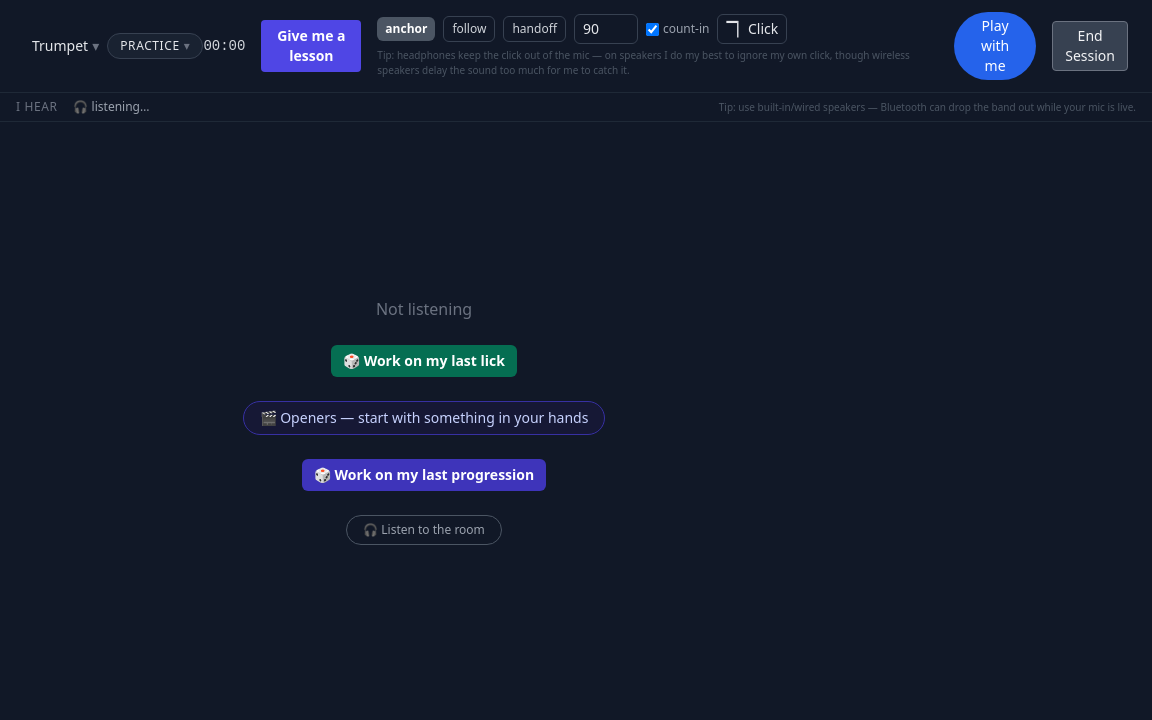
Test: PracticeSession › an Error rejection shows its message without the Error: prefix
The width and height of the screenshot is (1152, 720).
Click the button with test id "start-lesson" at (311, 46), box x1=261 y1=20 x2=361 y2=72
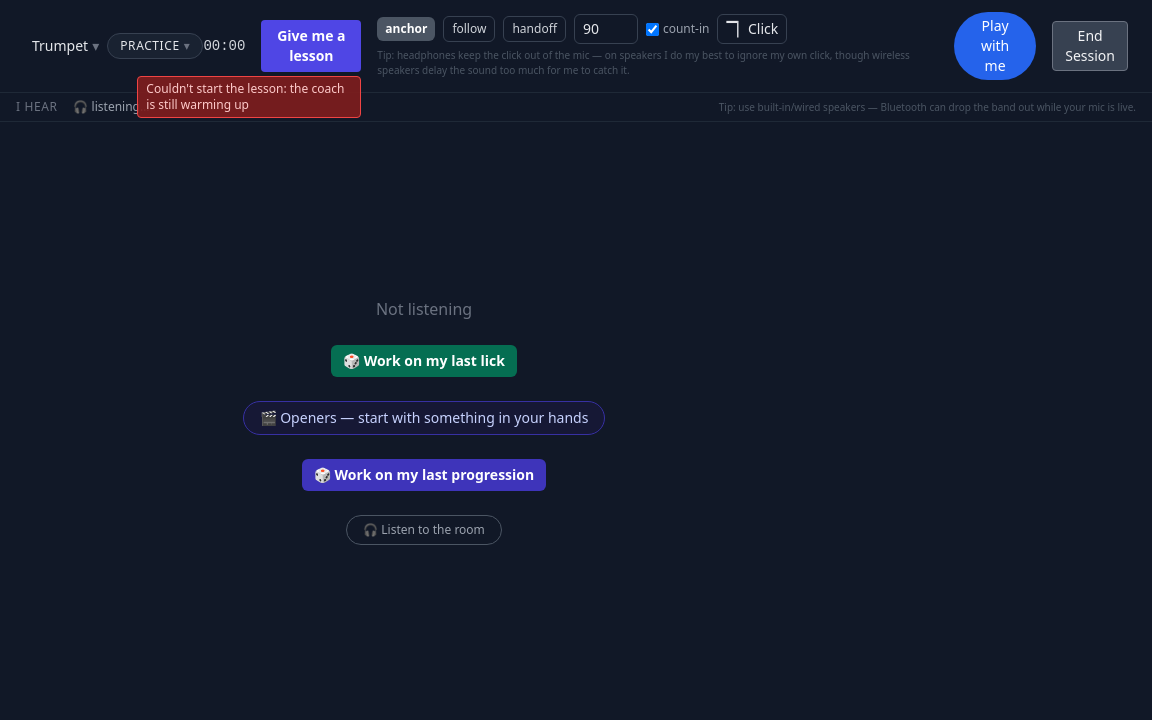
Expected: the message "Couldn't start the lesson: the coach is still warming up" is shown, x1=137 y1=76 x2=361 y2=118
